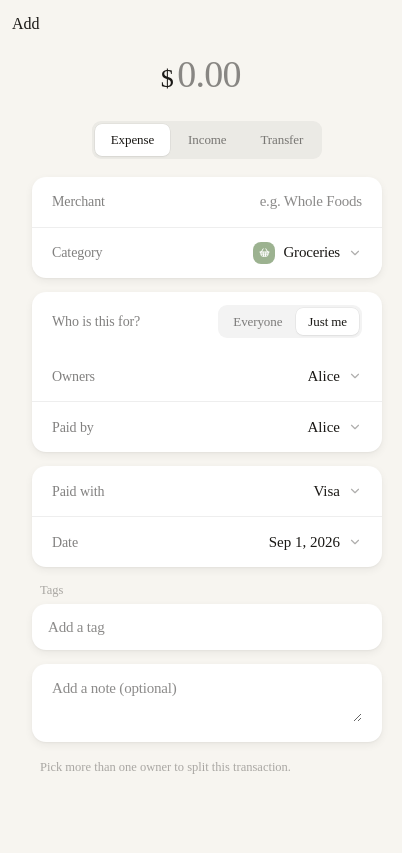
Test: split editor › multi-owner shows an even split by default
The image size is (402, 853).
Type "100" into the field with class "ow-amount-input" at (215, 74), box [177,46,253,103]
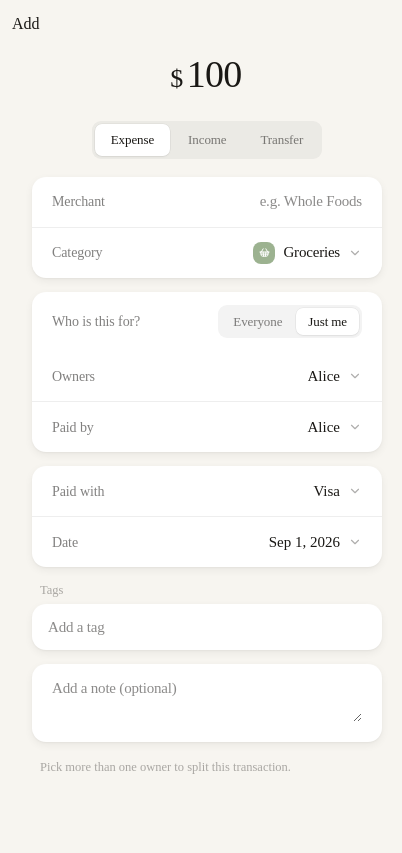
Type "Dinner" into the field with placeholder "e.g. Whole Foods" at (263, 202), box [164,190,362,213]
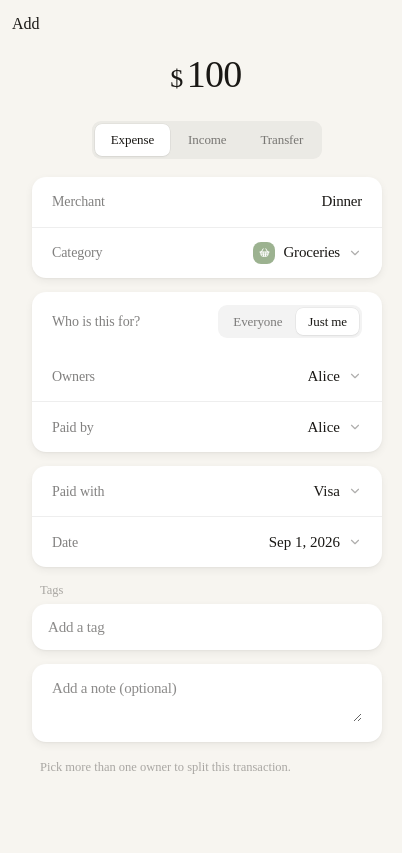
Click the button "Owners Alice" at (73, 376), box [32,351,382,401]
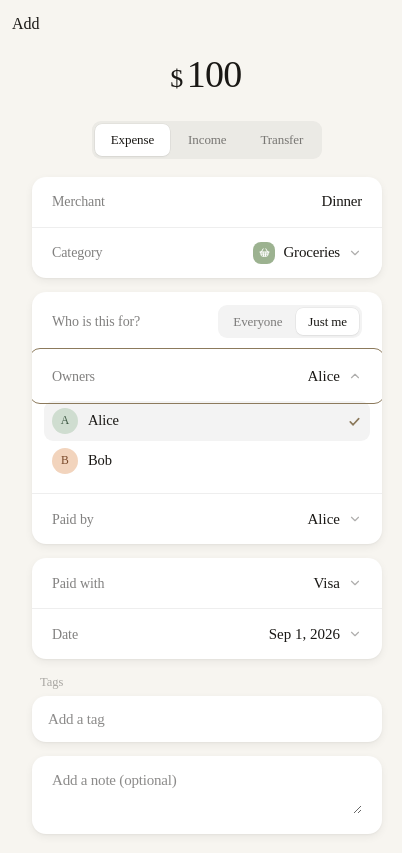
Click the button "B Bob" at (65, 461), box [44,441,370,481]
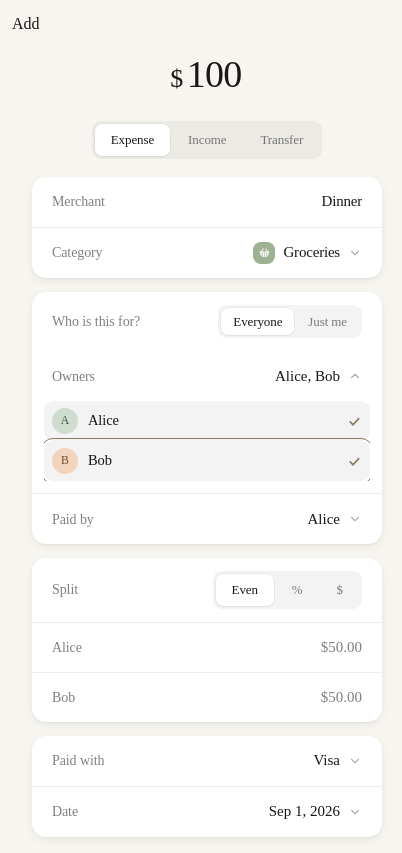
expect the tab "Even" is shown: met, box [216,574,274,606]
